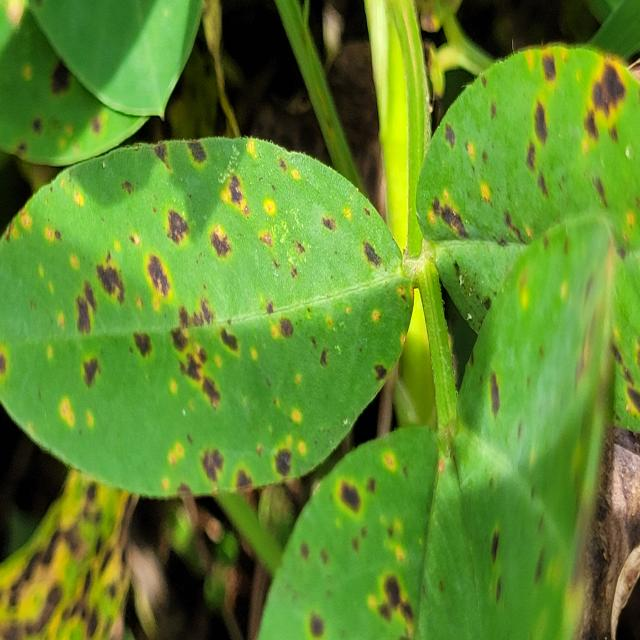Ground nut_tikka leaf spot: (0, 133, 414, 496)
